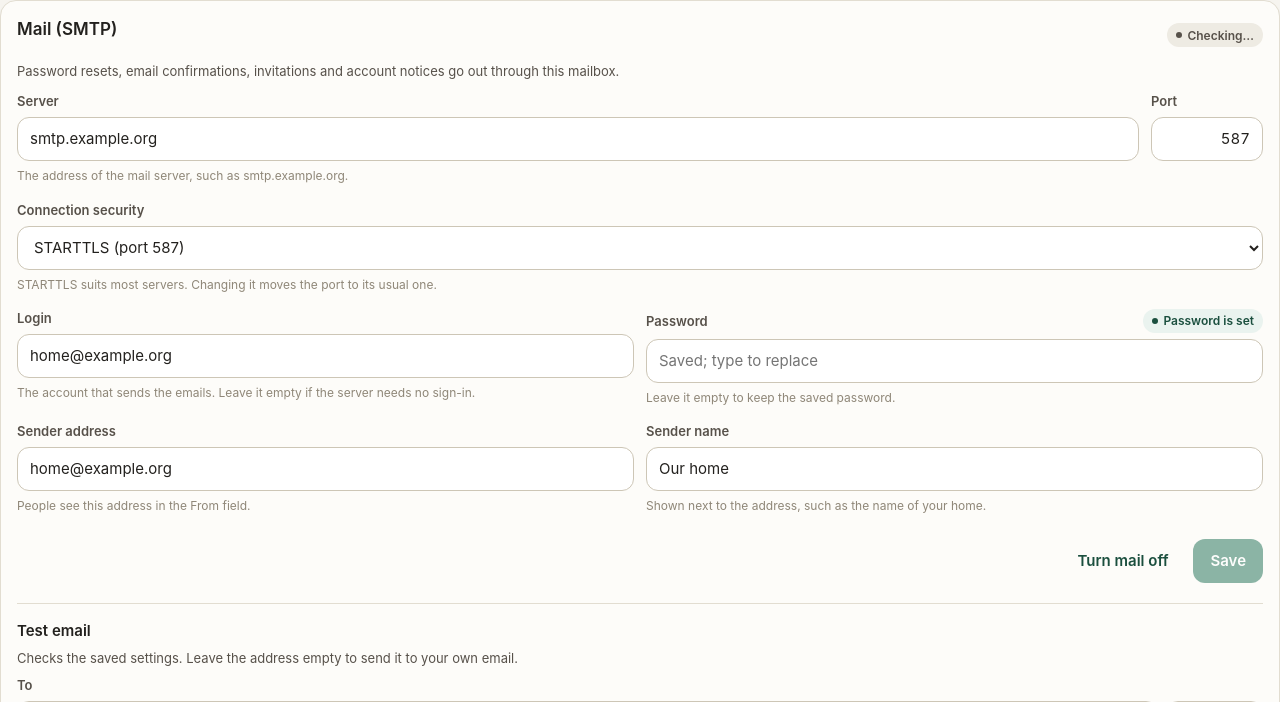
Scenario: MailboxCard › says when the server’s environment locks the mailbox
The width and height of the screenshot is (1280, 702).
Replace the text in the field labelled "Sender name" with "Dacha". click: (954, 469)
box: [646, 447, 1263, 491]
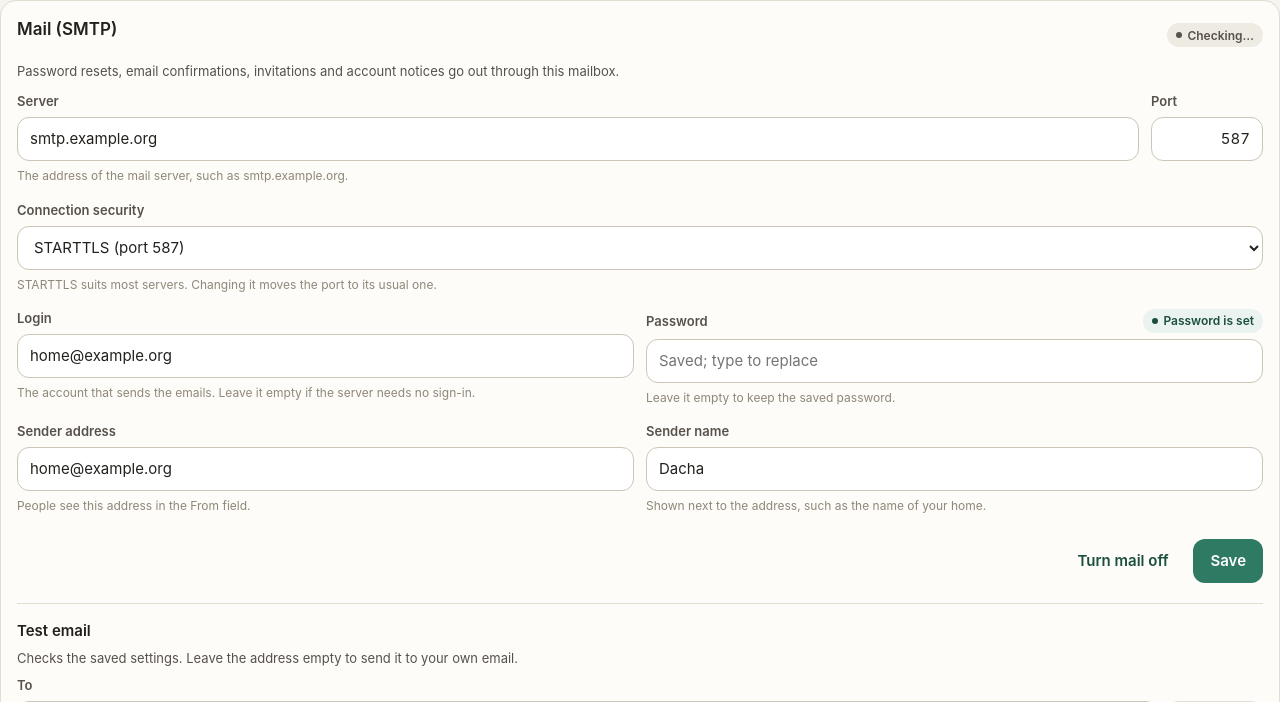
Click the button "Save". click: (1228, 561)
box: [1194, 539, 1263, 583]
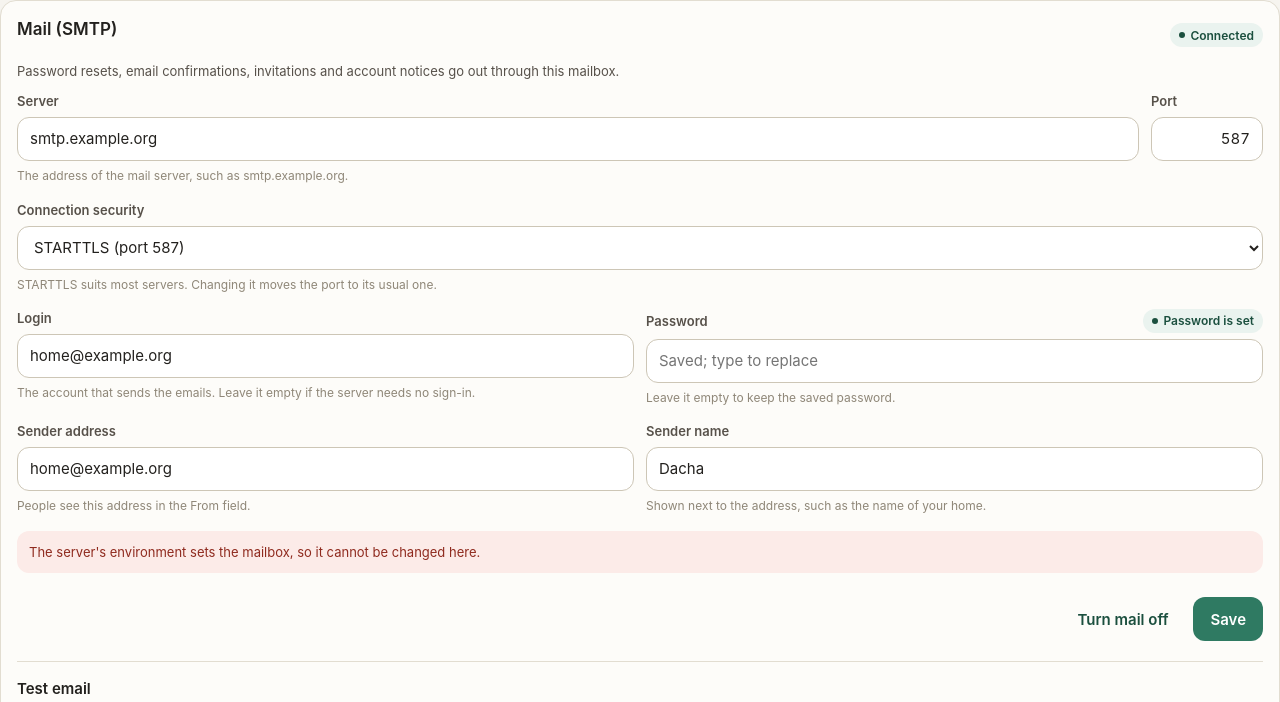
Result: the message shows "cannot be changed here" at [29, 544, 480, 560]
